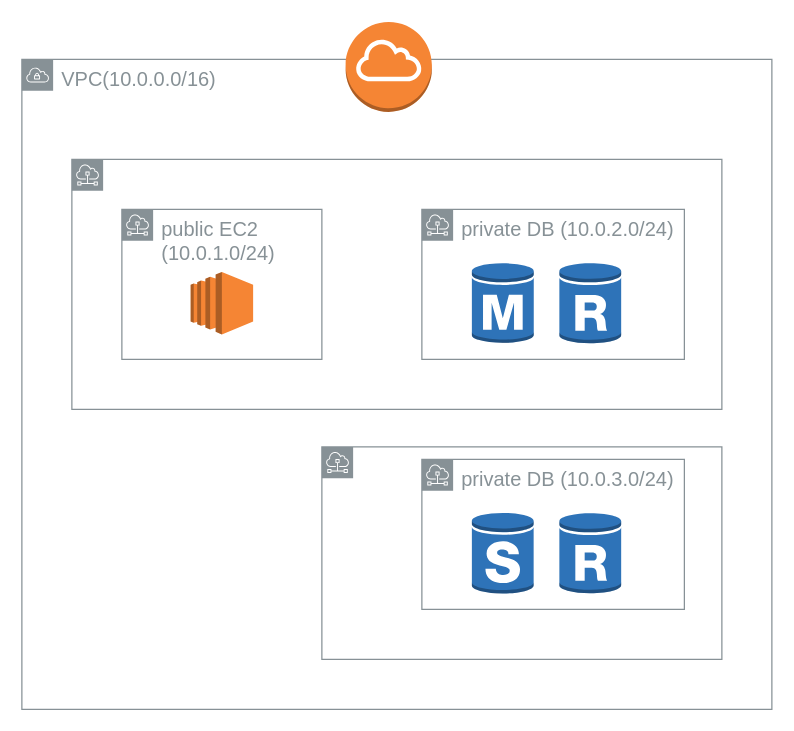
The diagram is 794 pixels wide and 731 high, and some of its shapes have lost their labels. Each missing label, with the box of its shape:
AZ1: (71, 158, 722, 409)
AZ2: (321, 446, 722, 659)
